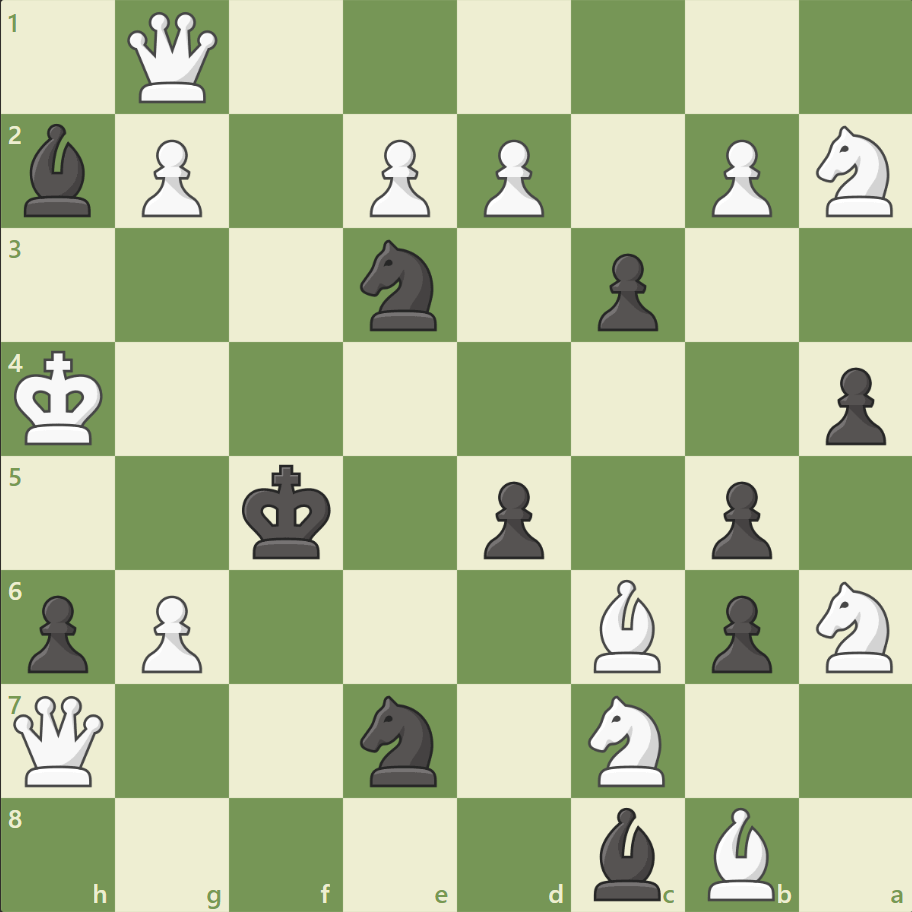B: (698, 801, 782, 904), (585, 574, 669, 676)
K: (11, 344, 111, 452)
N: (579, 688, 676, 791), (806, 575, 903, 677), (806, 121, 903, 223)
P: (133, 586, 208, 677), (701, 132, 776, 223), (474, 132, 549, 223), (133, 132, 208, 223), (361, 132, 435, 223)
Q: (10, 690, 109, 789), (124, 9, 223, 108)
b: (585, 801, 669, 904), (17, 120, 101, 222)
k: (238, 458, 338, 566)
n: (351, 688, 449, 791), (351, 234, 449, 337)
p: (701, 586, 776, 677), (20, 586, 95, 677), (701, 473, 776, 564), (474, 473, 549, 564), (815, 359, 889, 450), (588, 246, 662, 337)
